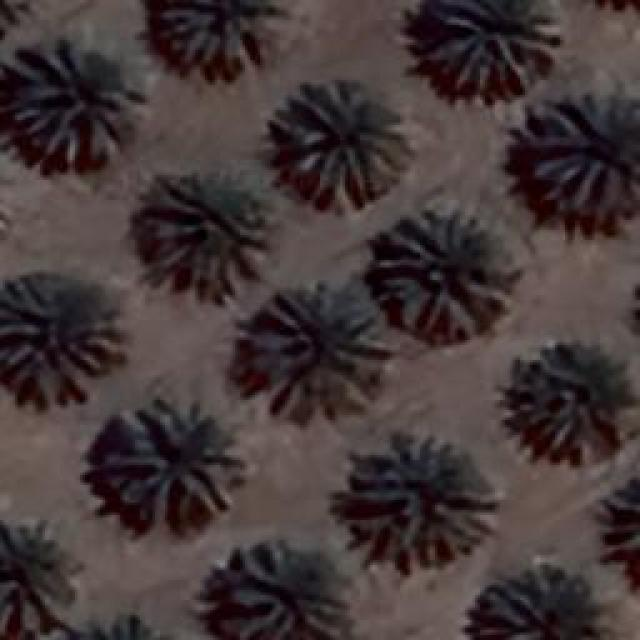PalmTree: (340, 432, 498, 566), (245, 280, 393, 420), (105, 398, 245, 528), (135, 170, 270, 300), (378, 210, 510, 340), (280, 80, 408, 208), (6, 42, 134, 170), (0, 280, 120, 405), (510, 342, 626, 462), (520, 90, 638, 202), (220, 540, 352, 635), (430, 0, 560, 95), (470, 568, 608, 638), (157, 0, 280, 78), (0, 520, 72, 637), (598, 473, 640, 592), (67, 606, 177, 640), (0, 0, 36, 41)
